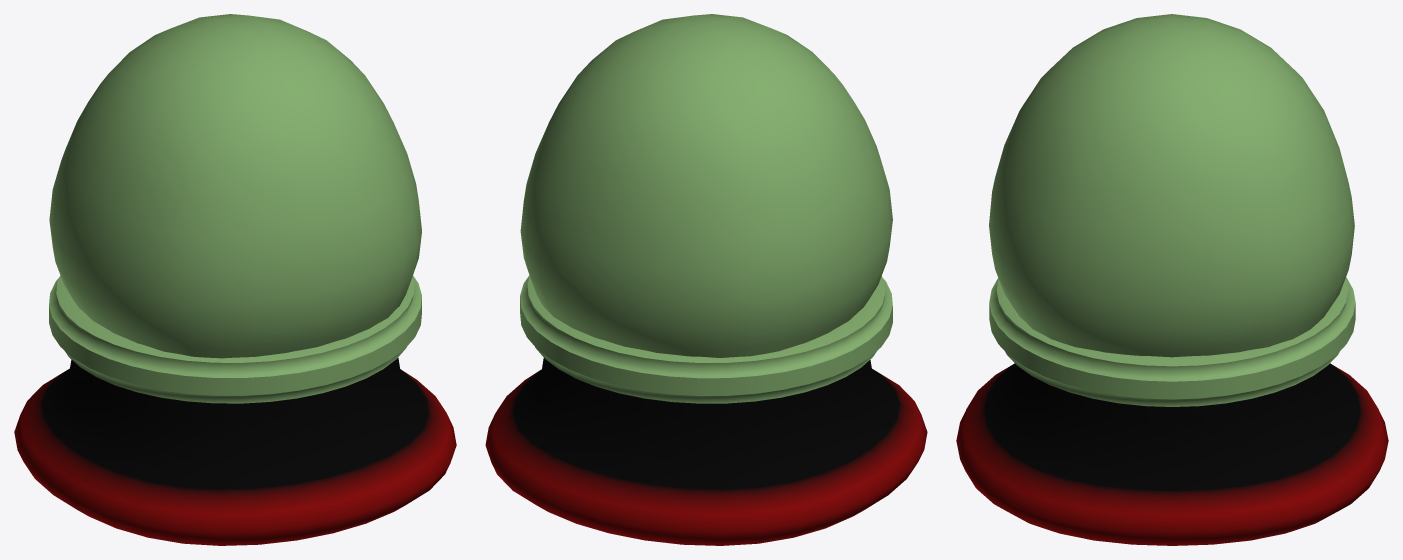
File: Alien LP.fbx
The picture shows the model from 3 angles, left to right: view 1: azimuth 30°, elevation 25°; view 2: azimuth 150°, elevation 25°; view 3: azimuth 270°, elevation 25°; orthographic projection.
Visible parts, largest first — view 1: Dome, Alien1, Helmet_neck_piece; view 2: Dome, Alien1, Helmet_neck_piece; view 3: Dome, Alien1, Helmet_neck_piece.
Boxes of the visible parts, x1=… form: Dome: x1=49, y1=14, x2=421, y2=358; Alien1: x1=14, y1=358, x2=456, y2=545; Helmet_neck_piece: x1=49, y1=275, x2=421, y2=403; Dome: x1=520, y1=14, x2=892, y2=357; Alien1: x1=485, y1=358, x2=927, y2=545; Helmet_neck_piece: x1=520, y1=275, x2=892, y2=403; Dome: x1=989, y1=14, x2=1354, y2=357; Alien1: x1=956, y1=363, x2=1388, y2=545; Helmet_neck_piece: x1=989, y1=277, x2=1355, y2=406.
Bounding box in the file's own units: 5.4 × 6.09 × 5.39.
